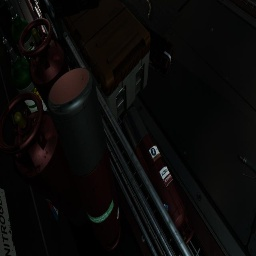0: (2, 37, 49, 113), (5, 0, 35, 60)
FirstAidBox ,: (140, 22, 174, 78)
NitrogenTank ,: (47, 68, 121, 252), (0, 92, 89, 226), (121, 106, 195, 254), (19, 18, 70, 111)
